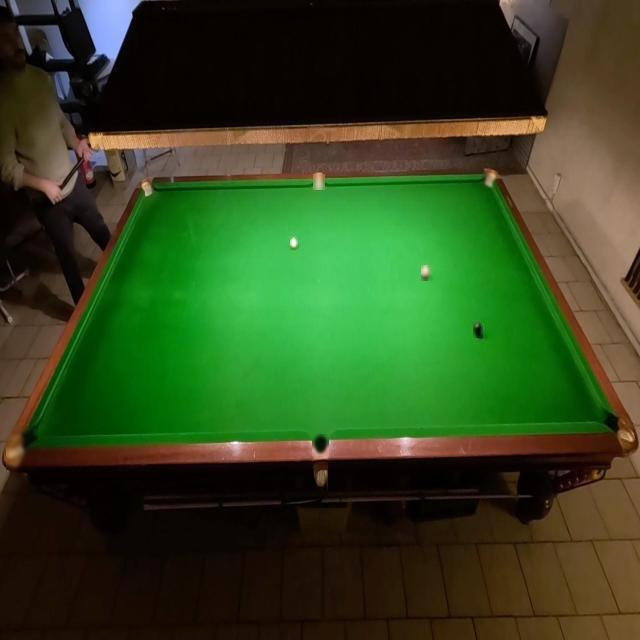Ball: (474, 320, 484, 338), (422, 266, 432, 282), (290, 236, 298, 251)
Pocket: (6, 426, 38, 470), (603, 414, 636, 452), (312, 434, 329, 456), (482, 171, 498, 190), (141, 180, 155, 199), (313, 174, 325, 190)
